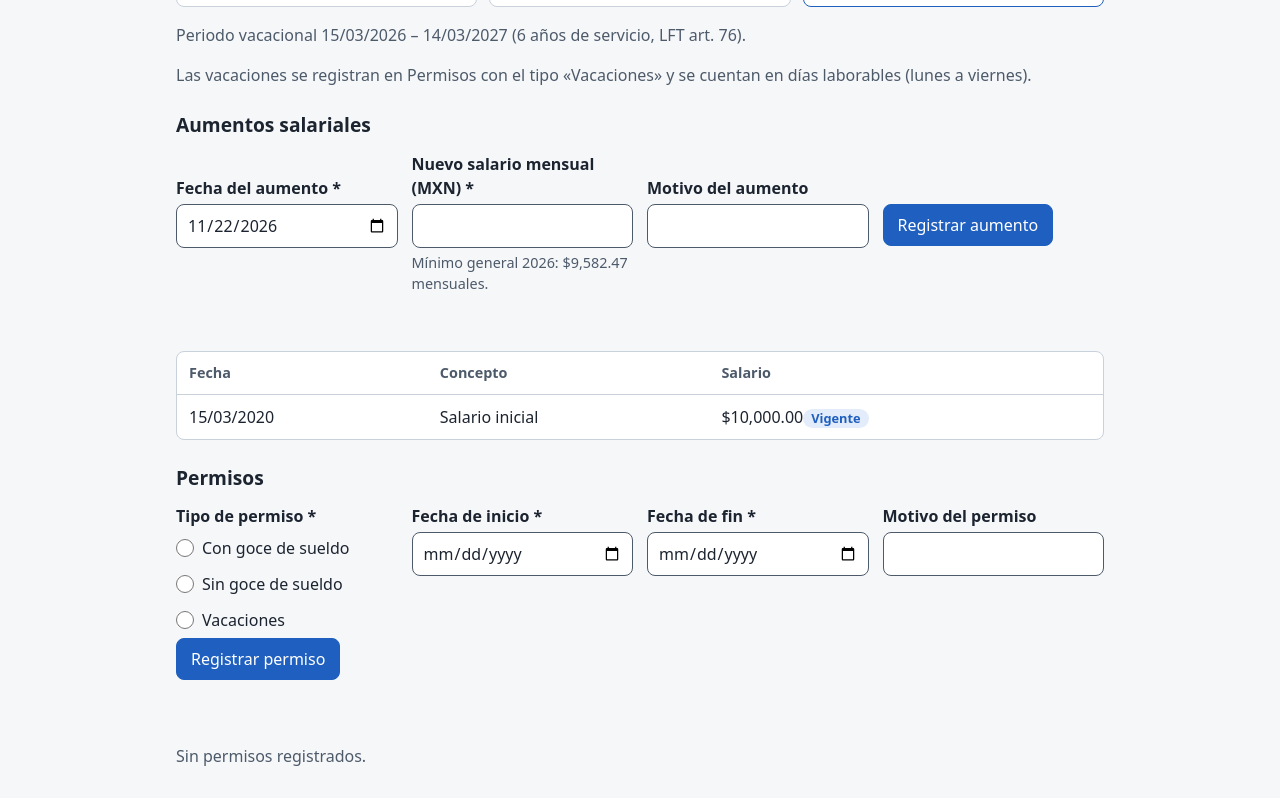
Test case: permisos (A2, R2a) › exige seleccionar el tipo de permiso
(page scrolled)
Type "2026-12-01" into the date field labelled "Fecha de inicio *".
click(522, 554); type("2026-12-01")  # box [412,532,633,576]
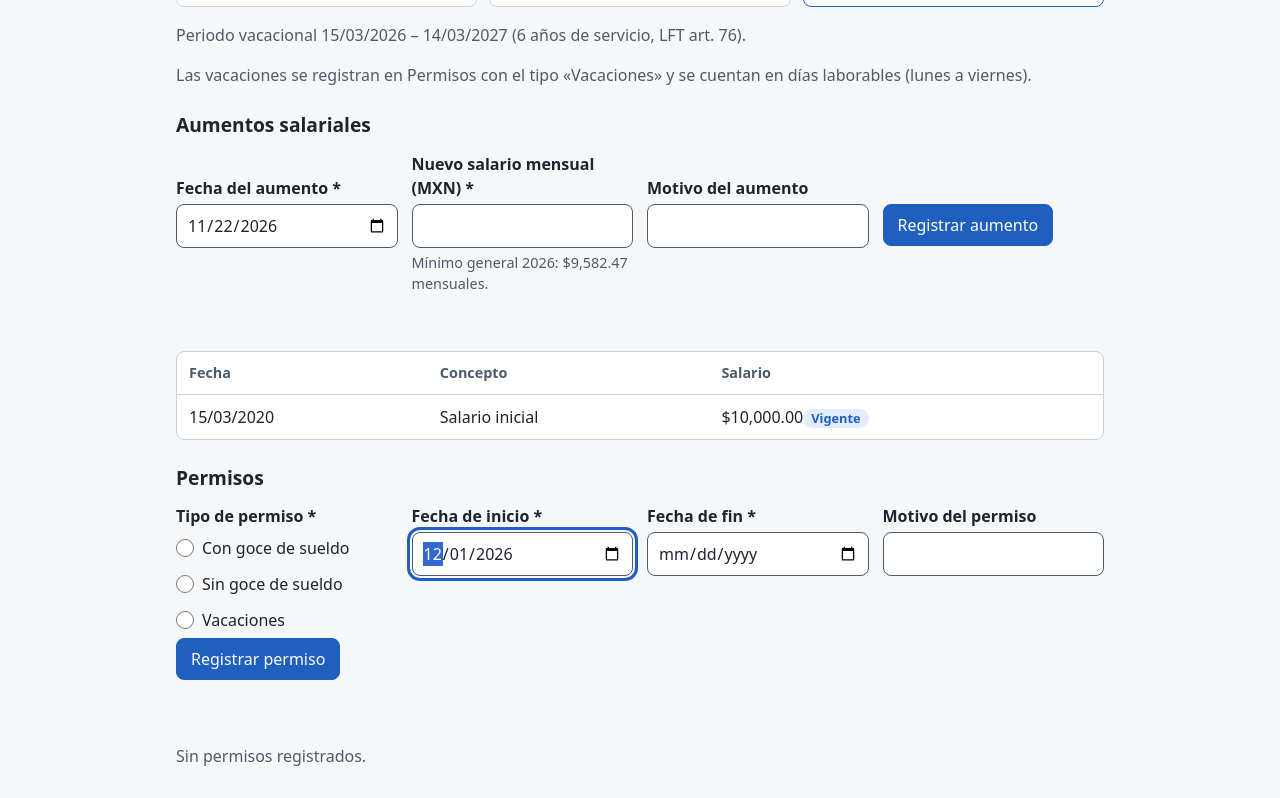
Type "2026-12-01" into the date field labelled "Fecha de fin *".
click(758, 554); type("2026-12-01")  # box [647,532,868,576]
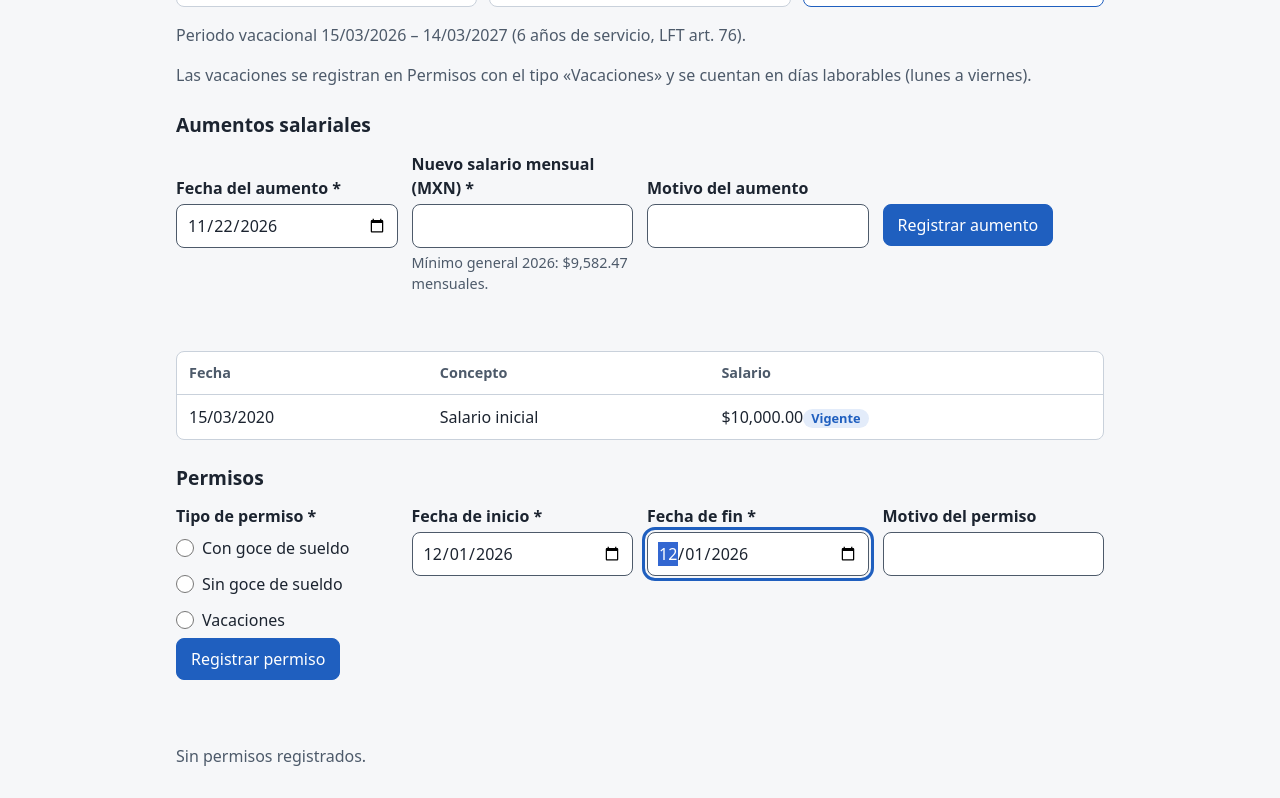
Click the button "Registrar permiso".
click(258, 659)  # box [176,638,340,680]
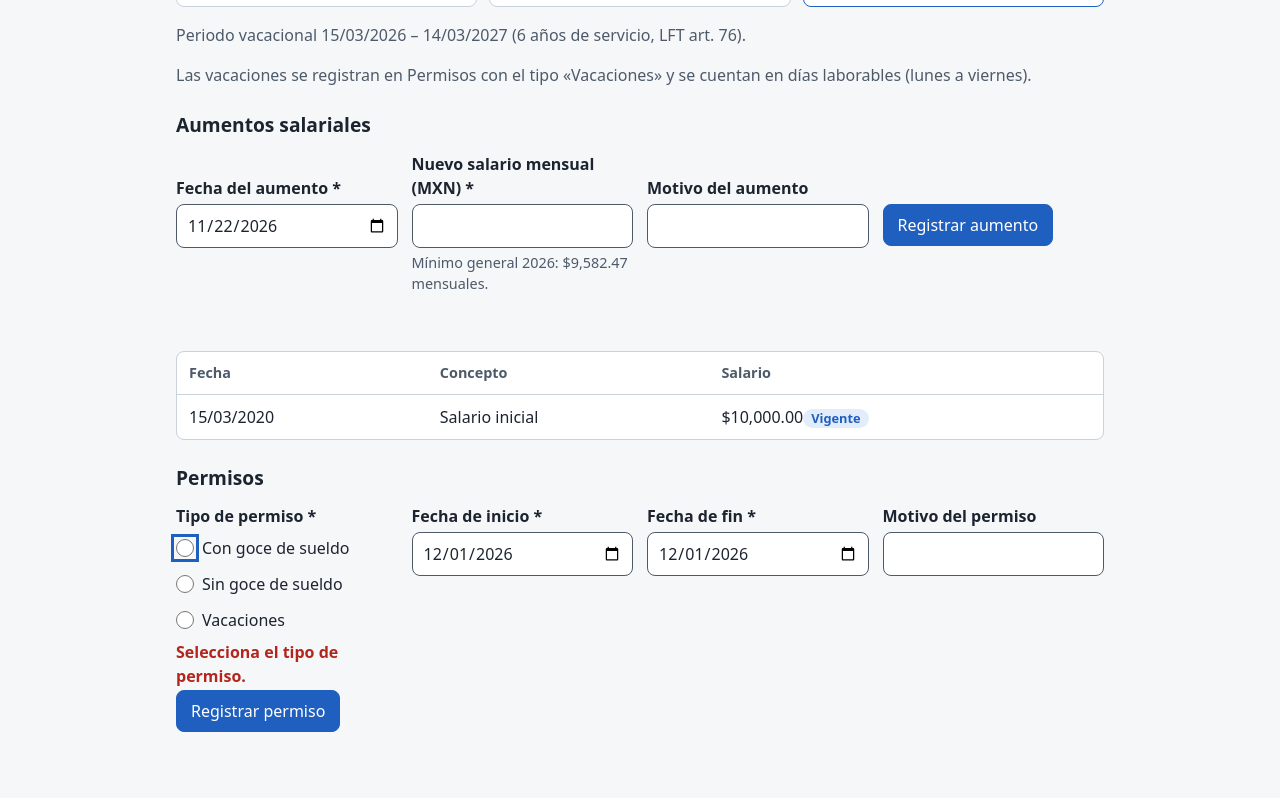
Now the text "Selecciona el tipo de permiso." is shown, box [176,641,338,687]
